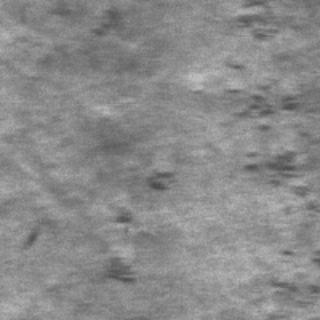rolled pit: (219, 10, 313, 312), (89, 165, 170, 281), (231, 0, 291, 48)
